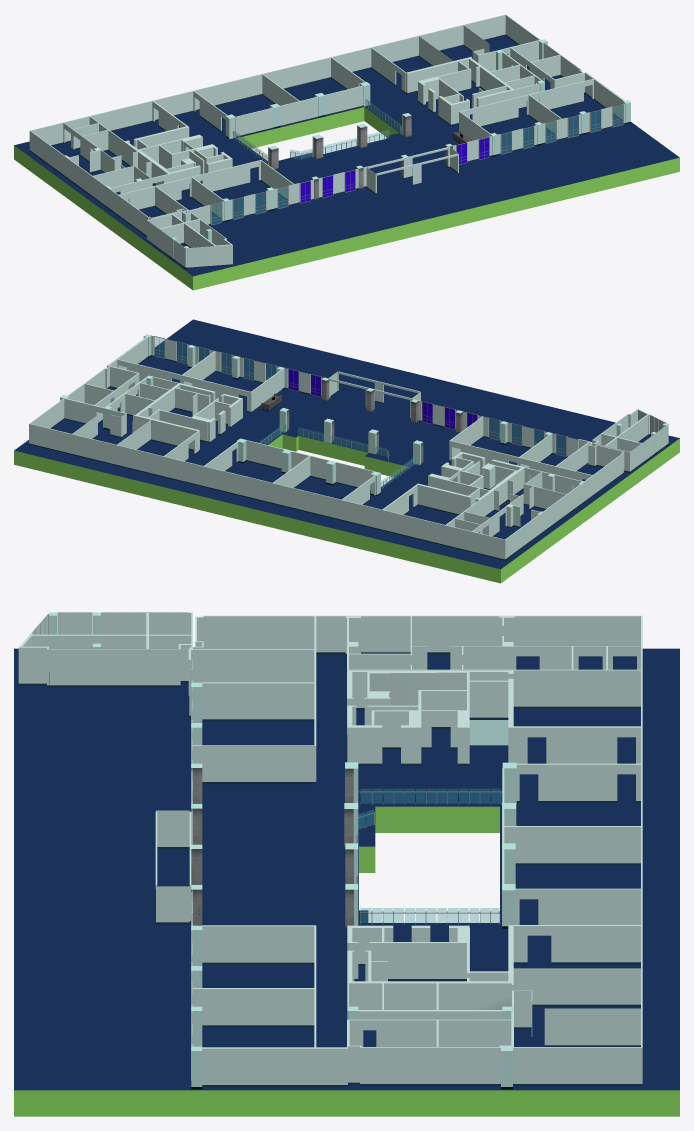
Rendered from 1F_Floor.fbx.
The picture shows the model from 3 angles, top to bottom: view 1: azimuth 30°, elevation 25°; view 2: azimuth 150°, elevation 25°; view 3: azimuth 270°, elevation 25°; orthographic projection. The views are drawn at different scales.
Parts seen in each view (by area): view 1: 1_Floor, Room_02, Room_01, 1F_EV_02, 1F_EV_01, Center_Pillar_1F, 1F_Pillar, Window_A_01, 1F_Fence_A, Window_A, Window_A_02, 1F_Front_Door_Wall (+4 smaller); view 2: 1_Floor, Room_02, Room_01, 1F_EV_02, 1F_Pillar, 1F_EV_01, Center_Pillar_1F, Window_A_01, 1F_Fence_A, Wall_Hide_B, Window_A, Wall_Hide_A (+4 smaller); view 3: 1_Floor, Room_02, Room_01, 1F_EV_01, 1F_EV_02, 1F_Pillar, 1F_Fence_A, Center_Pillar_1F, Elevator_Wall, EV_Wall_A_01.
Boxes of the visible parts, x1,y1,x2,y2 form: 1_Floor: (14,35,679,290); Room_02: (30,14,625,201); Room_01: (29,130,492,268); 1F_EV_02: (421,58,514,125); 1F_EV_01: (126,139,232,191); Center_Pillar_1F: (225,82,411,169); 1F_Pillar: (171,39,630,268); Window_A_01: (501,104,623,154); 1F_Fence_A: (232,99,401,162); Window_A: (300,137,489,203); Window_A_02: (211,186,288,225); 1F_Front_Door_Wall: (367,147,457,185); 1_Floor: (14,319,679,583); Room_02: (29,335,581,560); Room_01: (284,368,666,560); 1F_EV_02: (136,383,242,440); 1F_Pillar: (60,334,668,455); 1F_EV_01: (441,452,523,505); Center_Pillar_1F: (236,408,423,496); Window_A_01: (154,336,276,380); 1F_Fence_A: (258,424,416,488); Wall_Hide_B: (417,484,471,515); Window_A: (288,368,477,429); Wall_Hide_A: (151,419,198,450); 1_Floor: (14,648,679,1116); Room_02: (191,616,642,1086); Room_01: (18,612,642,932); 1F_EV_01: (347,671,510,765); 1F_EV_02: (347,925,511,1019); 1F_Pillar: (49,612,513,1089); 1F_Fence_A: (356,789,501,924); Center_Pillar_1F: (344,762,516,928); Elevator_Wall: (421,710,458,749); EV_Wall_A_01: (457,691,469,765).
Size of the model in its own units: 79.16 by 5.4 by 50.46.
Materials: 17 (3 with a texture image).
